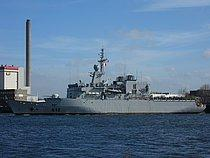MIL_Ship: (4, 48, 207, 114)
